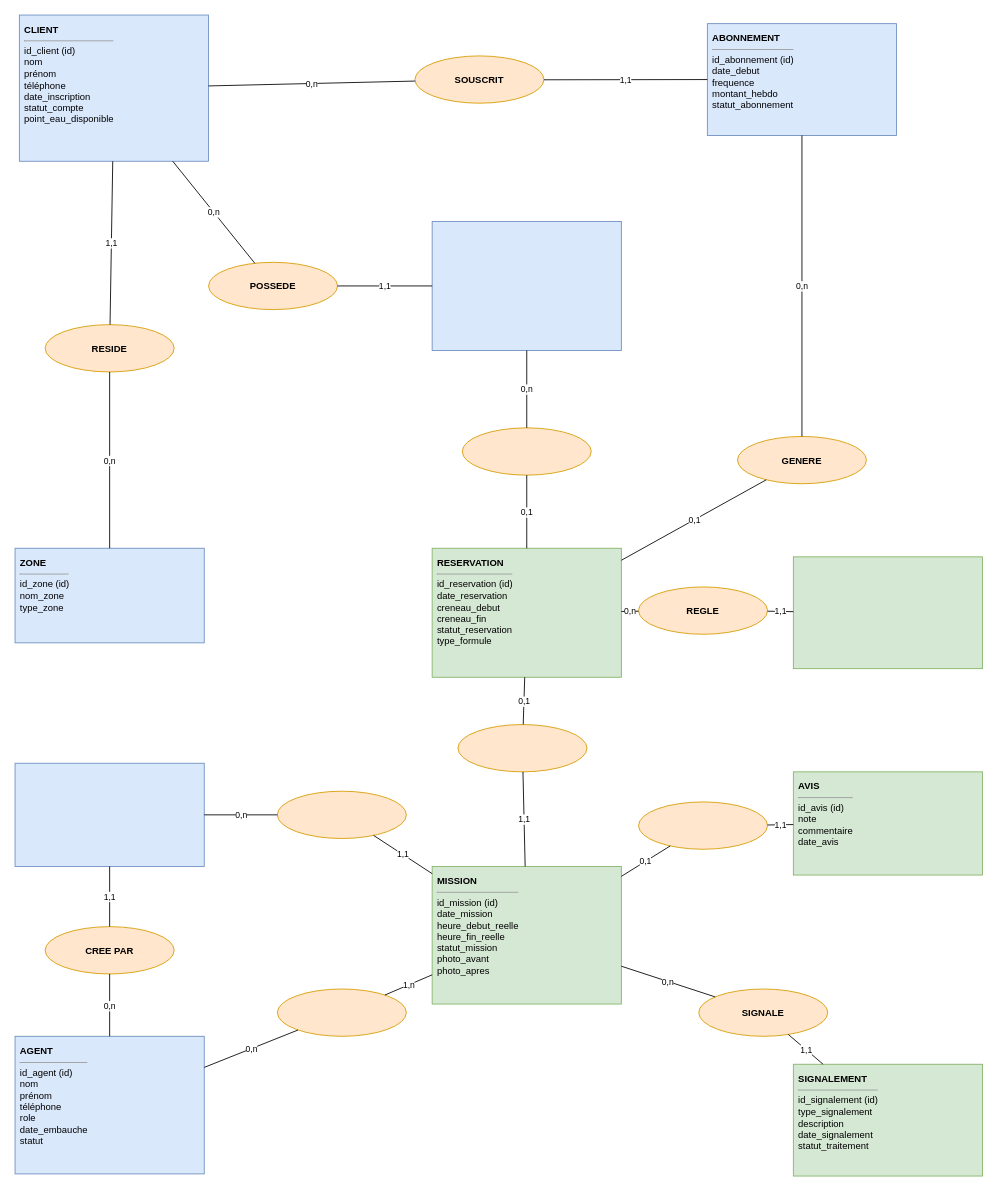
Image size: 998x1191. Some labels were removed from this diagram. Here are the shapes that lost their labels. From the top down, the centre of each, then its label:
At (526,285): "VEHICULE id_vehicule (id) type_vehicule marque modele immatriculation".
At (526,451): "CONCERNE".
At (887,612): "PAIEMENT id_paiement (id) montant date_paiement mode_paiement statut_paiement".
At (522,748): "DONNE LIEU".
At (109,814): "TOURNEE id_tournee (id) date_tournee zone_couverte statut_tournee".
At (341,814): "REGROUPE".
At (703,825): "EVALUE".
At (341,1012): "REALISE".
